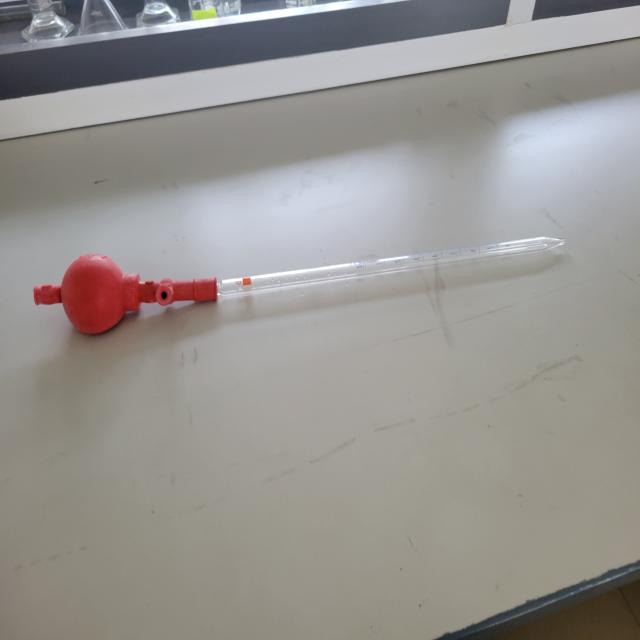Volumetric_Pipet: (7, 195, 590, 378)
